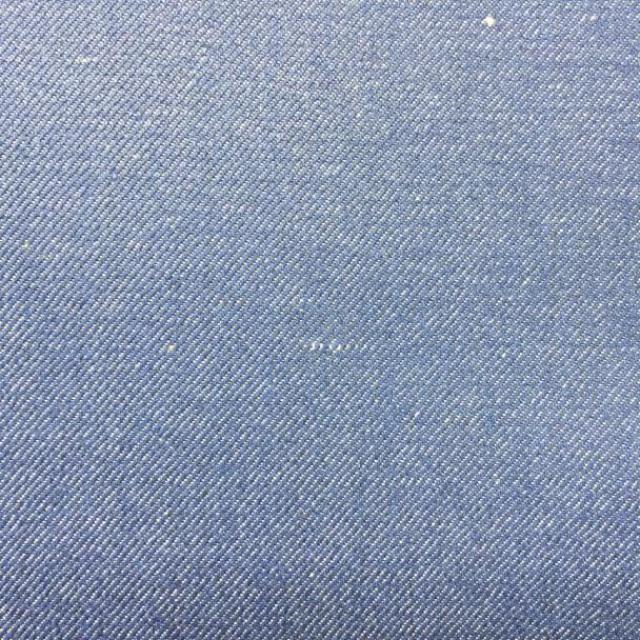Knot: (302, 340, 368, 355), (483, 14, 498, 27)
